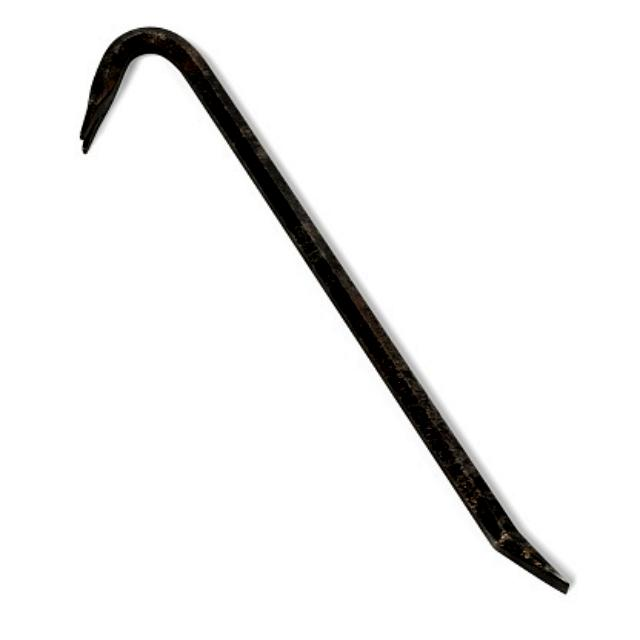crow bar: (78, 32, 571, 596)
